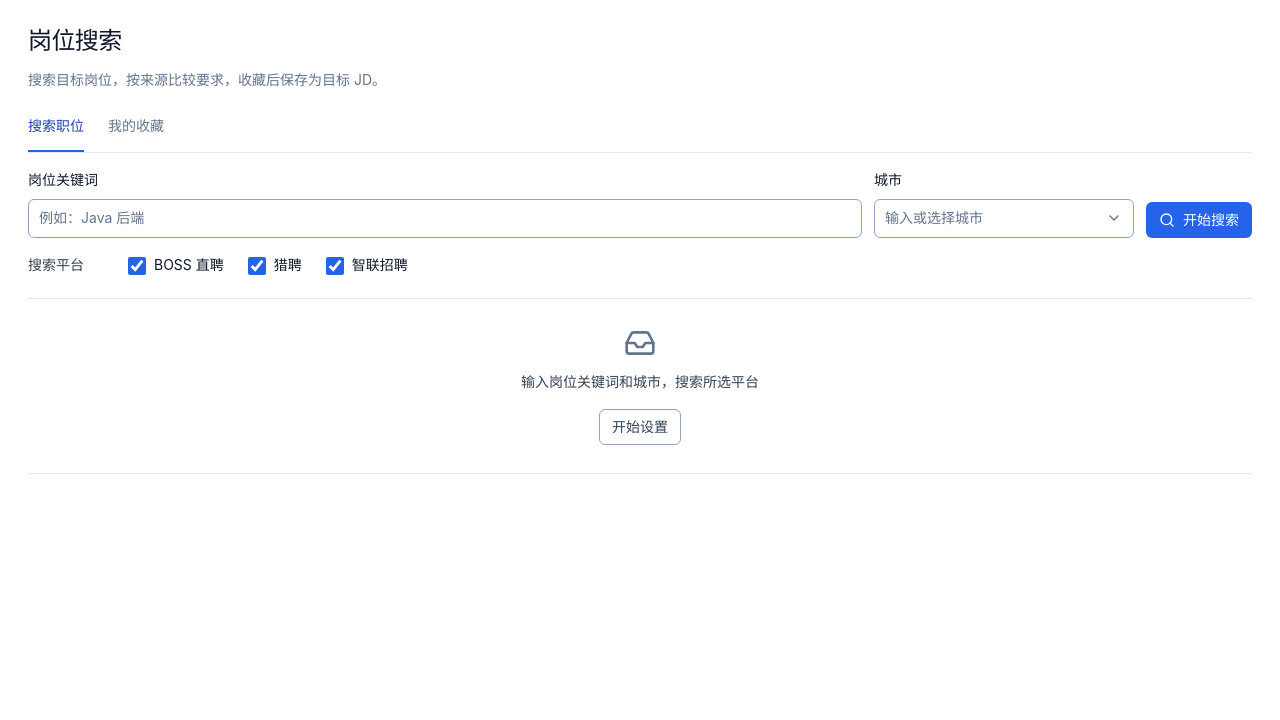
筛选排除当前详情则清空，不自动选另一项；原文选项不随筛选消失
Type "Java" into the field with id "job-keyword" at (445, 218), box [28,199,862,238]
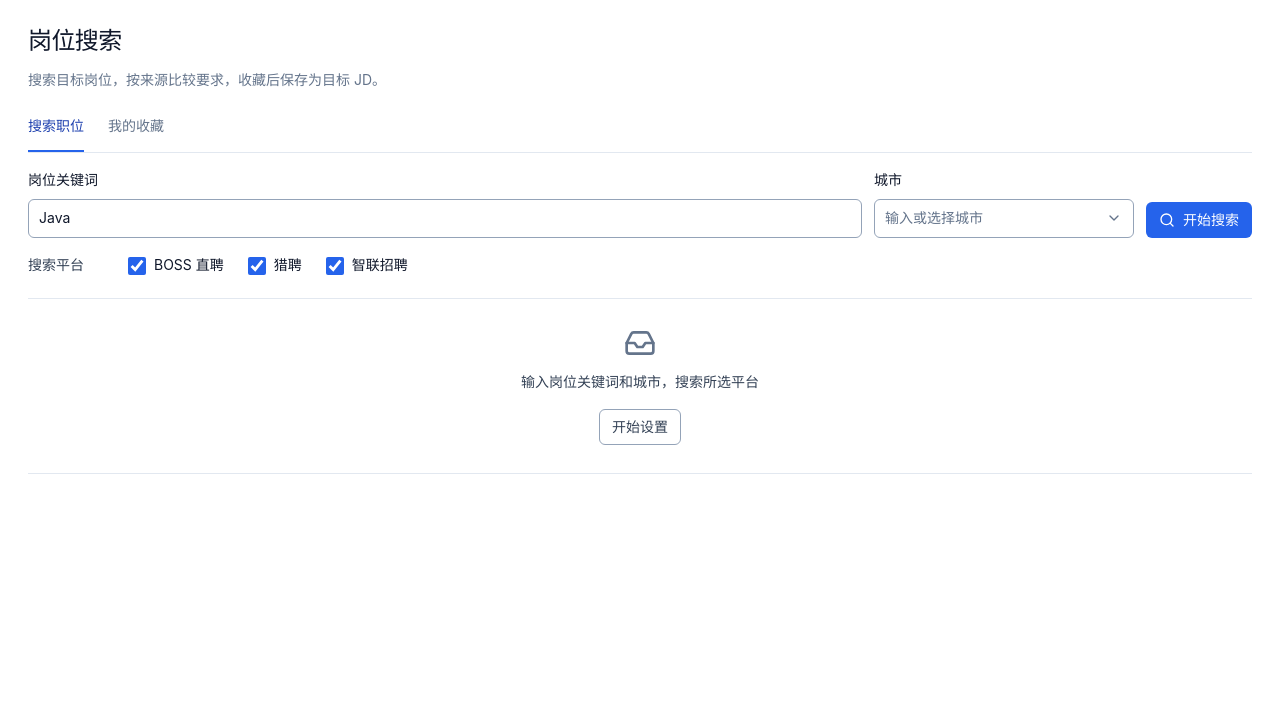
Type "深圳" into the dropdown with id "job-city" at (1004, 218), box [874,199,1134,238]
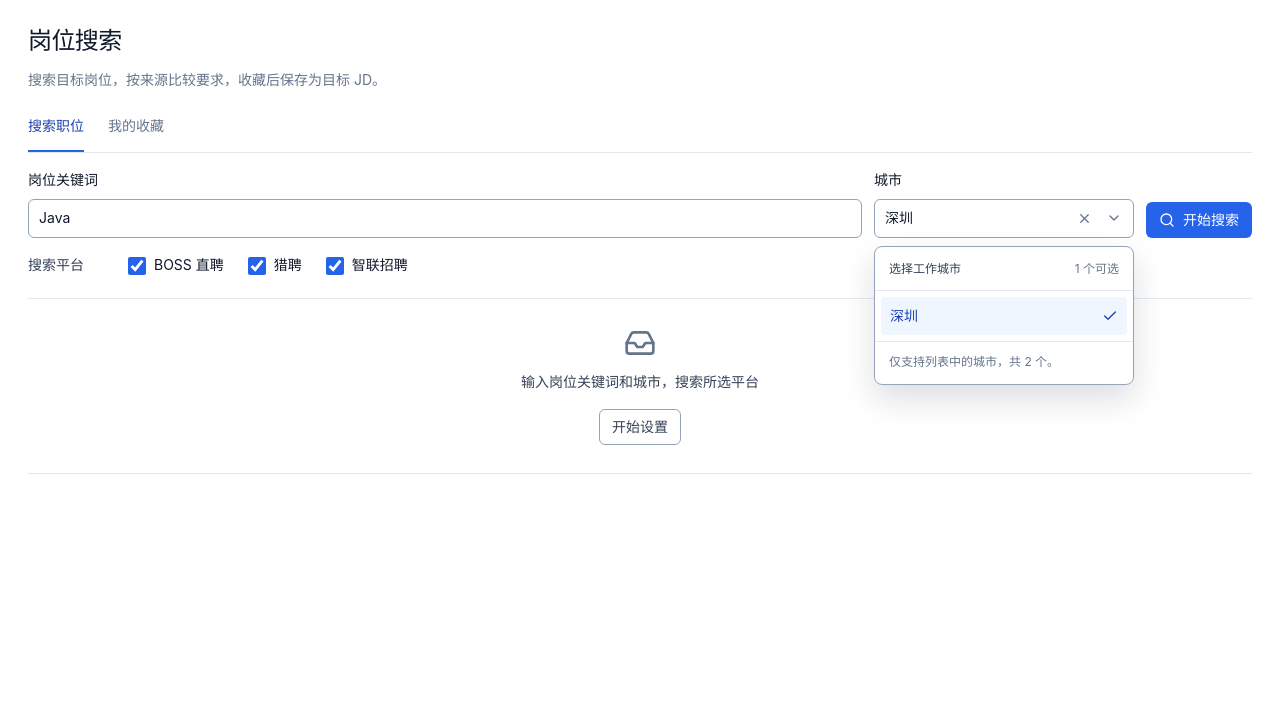
Submit the form with id "job-search-form", box [28,169,1252,282]
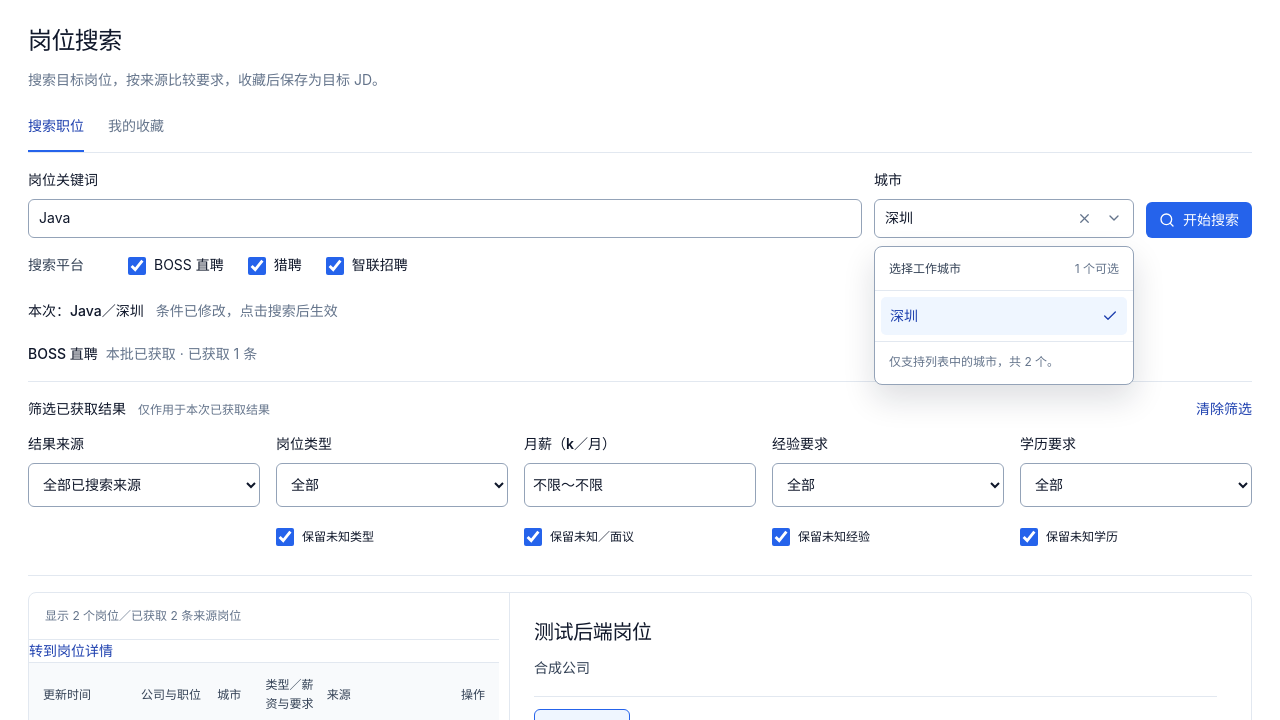
Select "不限" in the dropdown with id "job-experience" at (888, 485), box [772,463,1004,507]
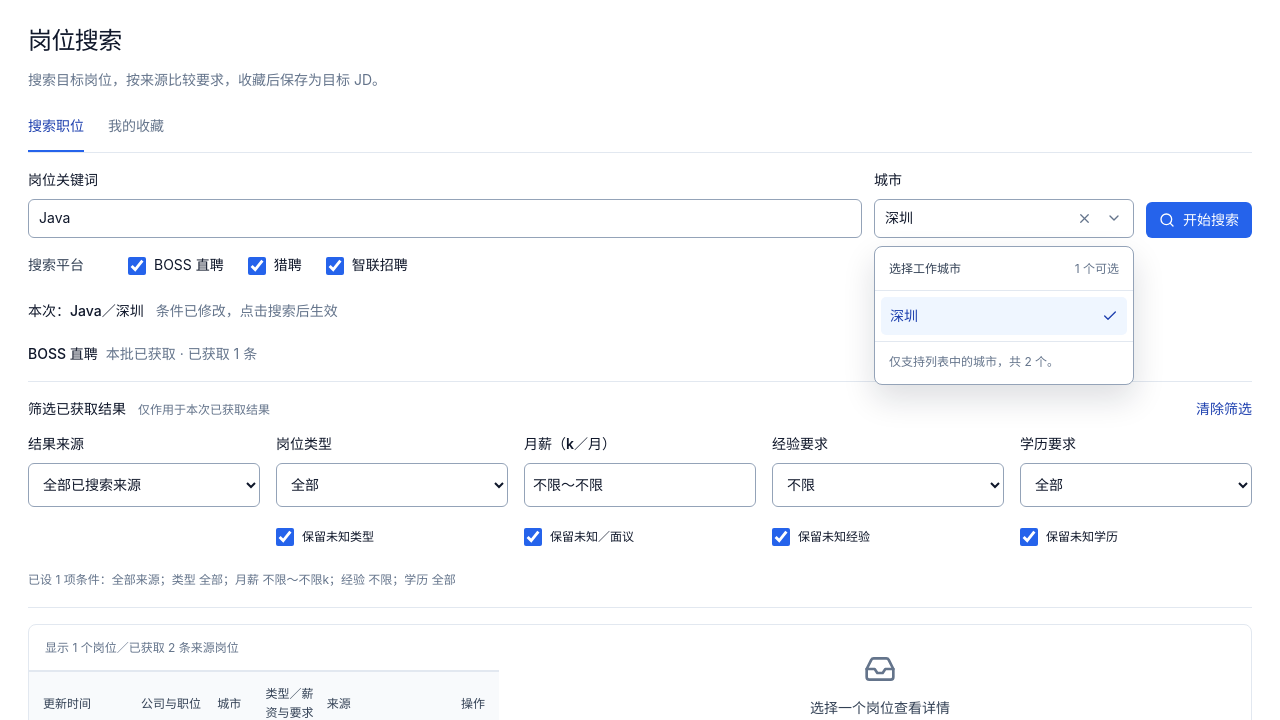
Result: the text "选择一个岗位查看详情" is shown at [810,698,950,716]
